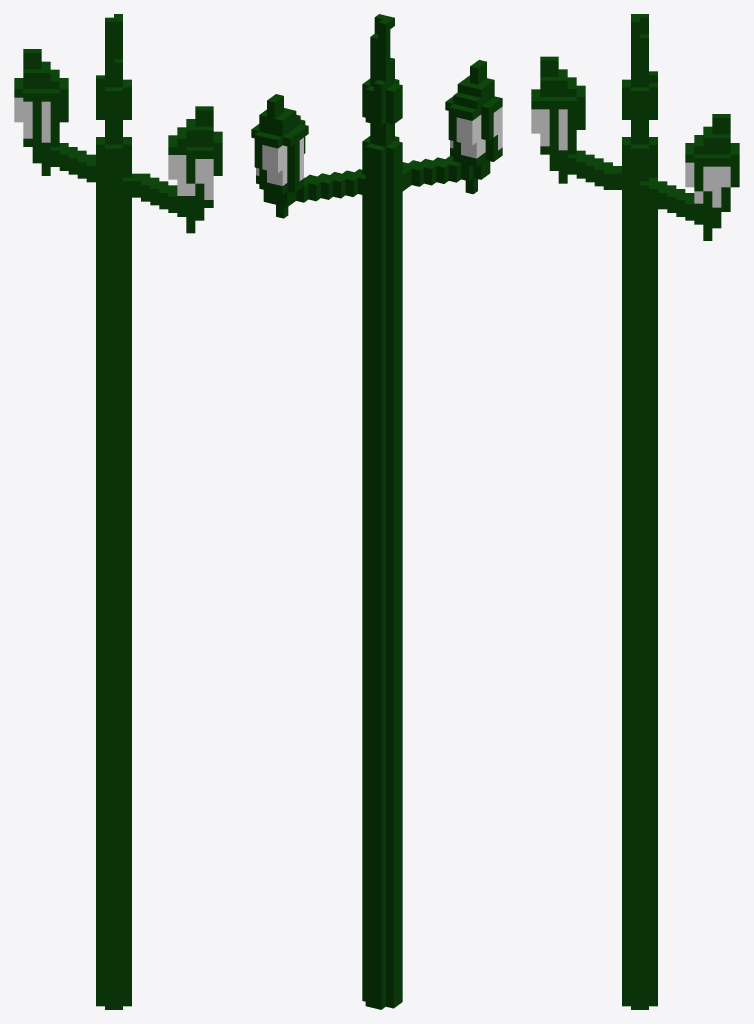
File: gaitou.obj
The picture shows the model from 3 angles, left to right: view 1: azimuth 90°, elevation 25°; view 2: azimuth 150°, elevation 25°; view 3: azimuth 270°, elevation 25°; orthographic projection.
Bounding box in the file's own units: 2 × 12 × 2.3.
1 material, 1 textured.
